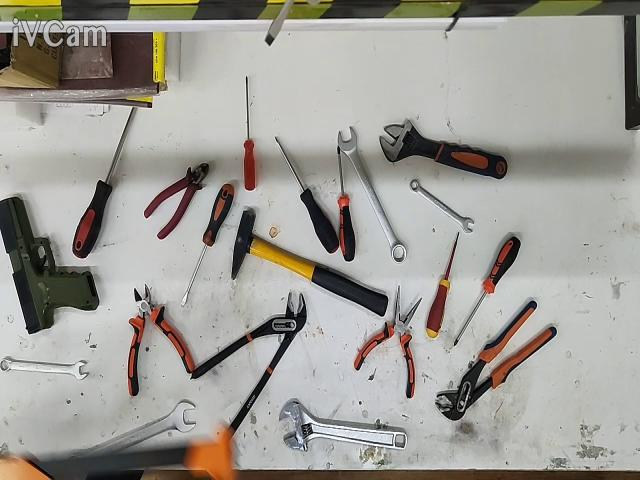Adjustable spanner: (379, 118, 509, 178), (279, 400, 407, 451)
Cutting pliers: (128, 283, 195, 396), (144, 163, 210, 239)
Gas wrench: (192, 293, 306, 439), (435, 300, 558, 422)
Gun: (0, 197, 100, 333)
Hammer: (232, 208, 389, 317)
Needle-nose pliers: (354, 285, 422, 398)
Screwdriver: (72, 107, 137, 258), (274, 137, 340, 253), (454, 235, 520, 346), (180, 183, 235, 304), (426, 232, 459, 338), (337, 146, 355, 262), (244, 77, 255, 191)
Wrench: (338, 127, 406, 263), (80, 400, 196, 458), (410, 179, 474, 233), (0, 357, 89, 380)
